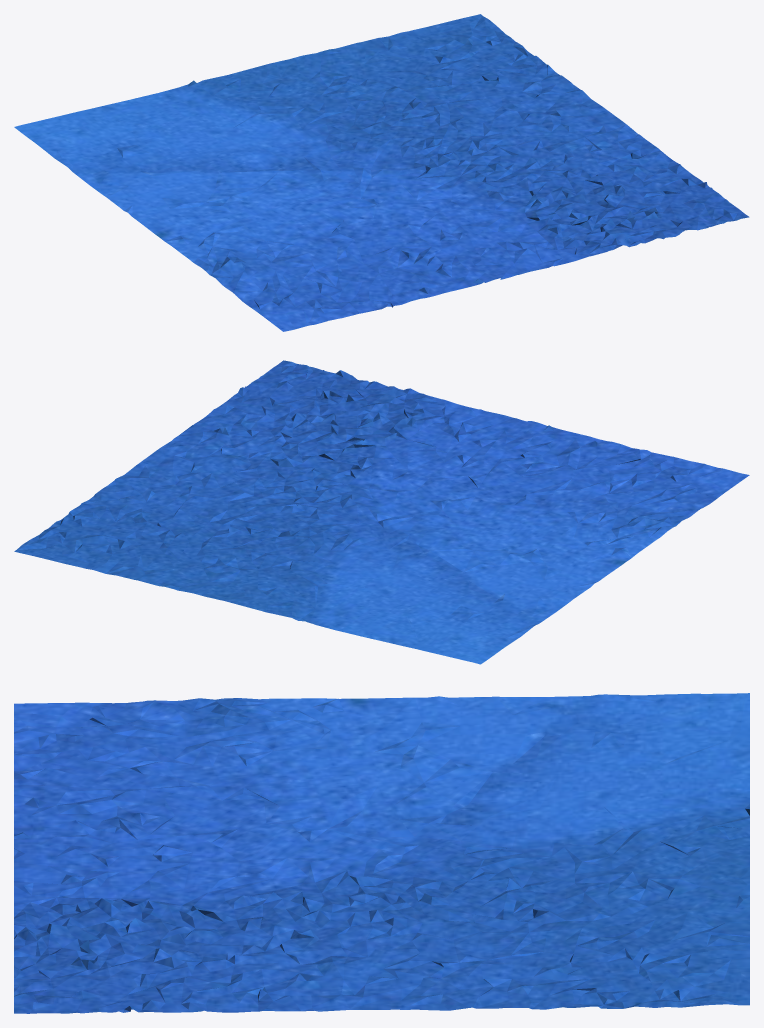
3 views of the same model, one above another, from view 1: azimuth 30°, elevation 25°; view 2: azimuth 150°, elevation 25°; view 3: azimuth 270°, elevation 25° (orthographic). The views are drawn at different scales.
Size of the model in its own units: 13.06 by 0.3479 by 13.06.
Materials: 3 (3 with a texture image).
